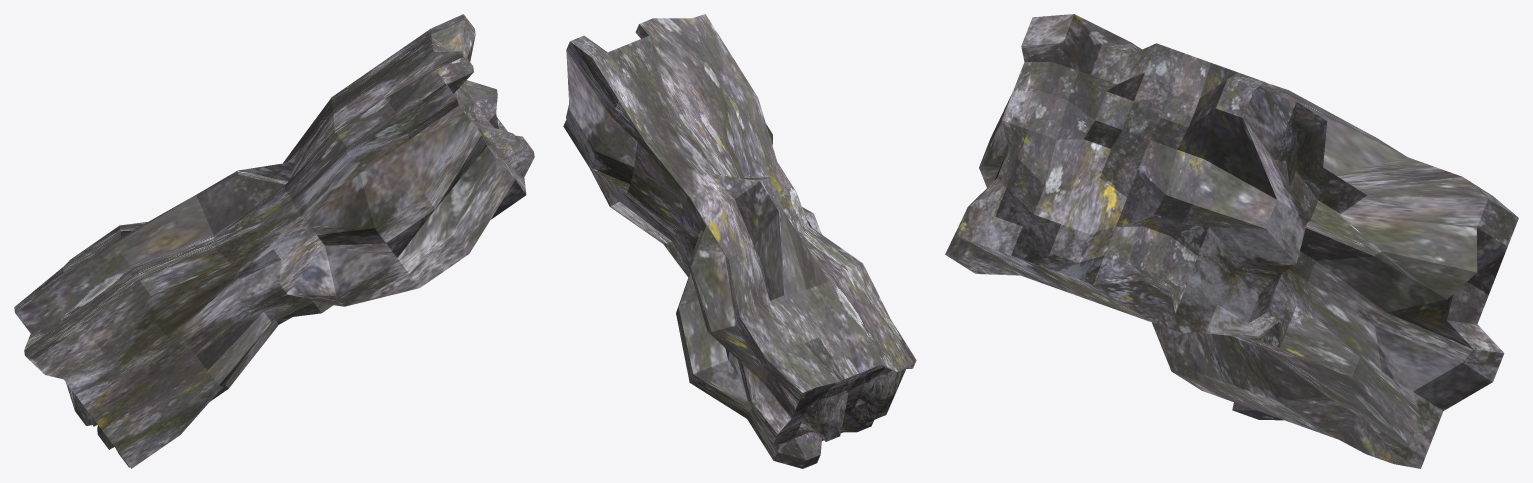
The model's file is hourglass_cursed.fbx.
The picture shows the model from 3 angles, left to right: view 1: azimuth 30°, elevation 25°; view 2: azimuth 150°, elevation 25°; view 3: azimuth 270°, elevation 25°; orthographic projection. The views are drawn at different scales.
Parts seen in each view (by area): view 1: time; view 2: time; view 3: time.
Part boxes in pixels (<box>): time: <box>14,14,534,468</box>; time: <box>563,14,916,468</box>; time: <box>945,14,1518,468</box>.
Bounding box in the file's own units: 13.09 × 10.92 × 9.04.
